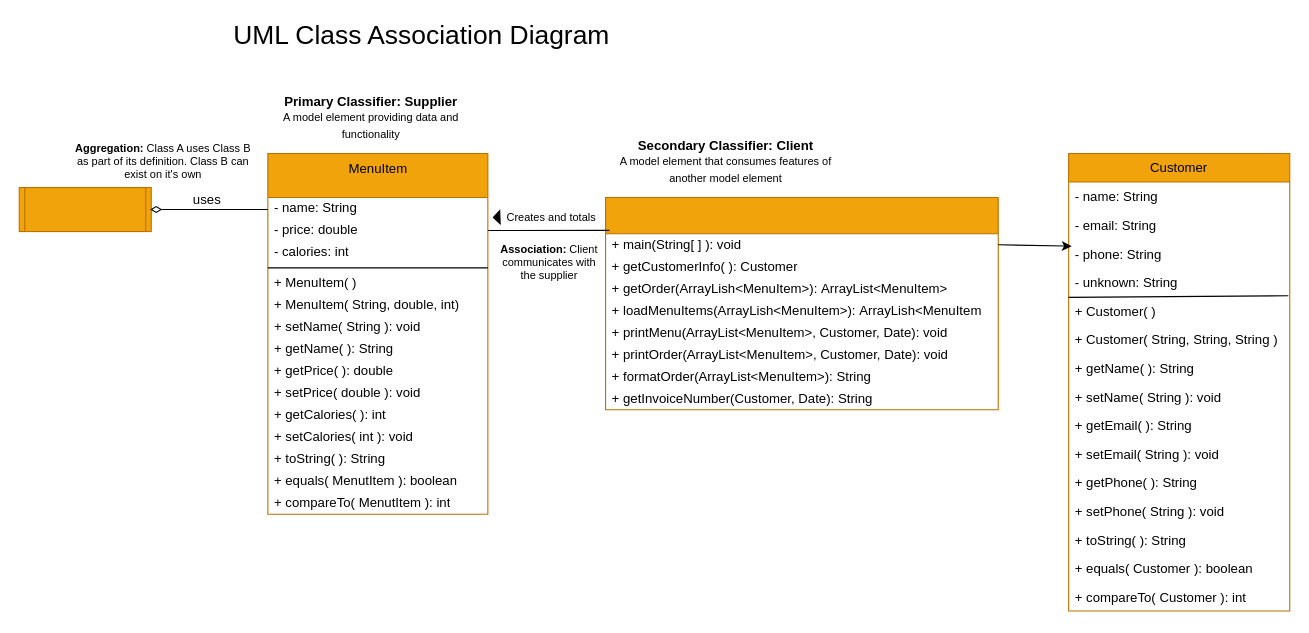
The diagram is 1309 pixels wide and 633 high, and some of its shapes have lost their labels. The shapes that lost their labels are listed below. From the top down, each one's box as (x1, y1, x2, y2) in pixels, then its label:
(18, 186, 151, 232): String
(604, 196, 998, 410): Driver
